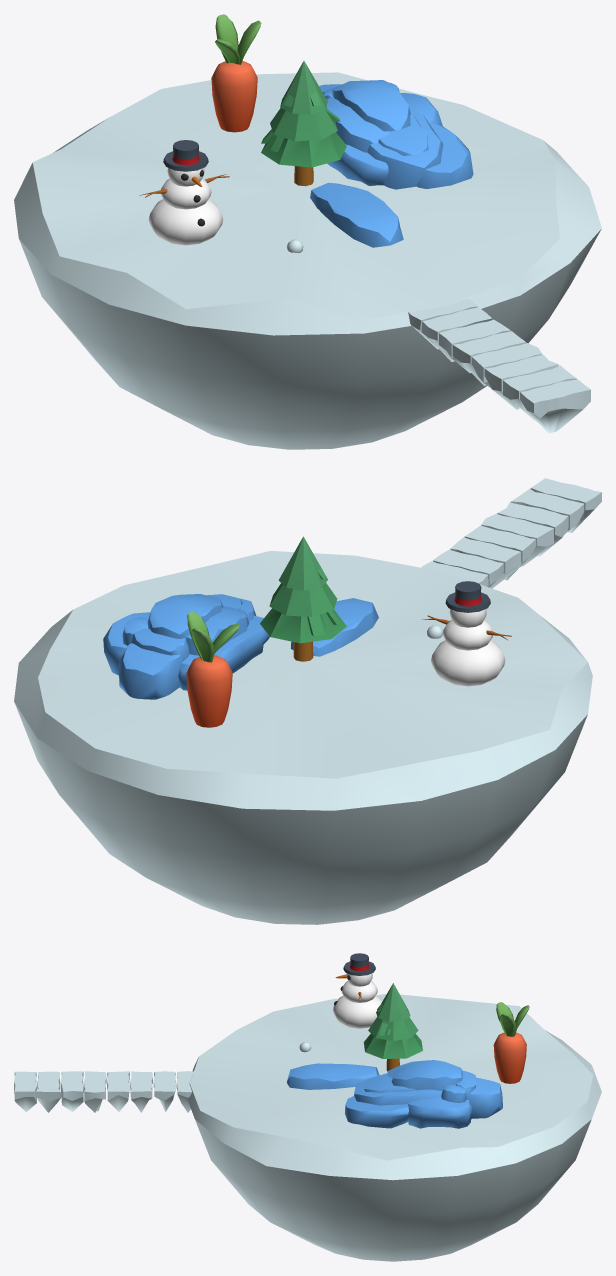
Rendered from Ice.fbx.
3 renders of one model, top to bottom at view 1: azimuth 30°, elevation 25°; view 2: azimuth 150°, elevation 25°; view 3: azimuth 270°, elevation 25°, orthographic. The views are drawn at different scales.
Visible parts, largest first — view 1: pSphere1, Ice_mountain, Bridge_1, la, Snowman, Carrot, Ice1; view 2: pSphere1, Ice_mountain, Bridge_1, Snowman, la, Carrot, Ice1; view 3: pSphere1, Ice_mountain, Bridge_1, la, Snowman, Carrot, Ice1.
Part boxes in pixels (left/top/right/bottom): pSphere1: left=14, top=72, right=601, bottom=449; Ice_mountain: left=319, top=80, right=473, bottom=189; Bridge_1: left=408, top=298, right=590, bottom=433; la: left=261, top=61, right=346, bottom=167; Snowman: left=139, top=140, right=229, bottom=245; Carrot: left=211, top=14, right=261, bottom=132; Ice1: left=310, top=182, right=403, bottom=247; pSphere1: left=14, top=551, right=592, bottom=924; Ice_mountain: left=103, top=594, right=269, bottom=699; Bridge_1: left=421, top=478, right=601, bottom=588; Snowman: left=421, top=581, right=511, bottom=686; la: left=260, top=536, right=346, bottom=643; Carrot: left=186, top=611, right=239, bottom=727; Ice1: left=291, top=598, right=378, bottom=656; pSphere1: left=187, top=994, right=601, bottom=1261; Ice_mountain: left=345, top=1060, right=502, bottom=1128; Bridge_1: left=14, top=1071, right=193, bottom=1112; la: left=363, top=983, right=422, bottom=1058; Snowman: left=333, top=953, right=382, bottom=1028; Carrot: left=493, top=1002, right=529, bottom=1083; Ice1: left=287, top=1063, right=379, bottom=1089.
Bounding box in the file's own units: 3784 × 2590 × 5332.
